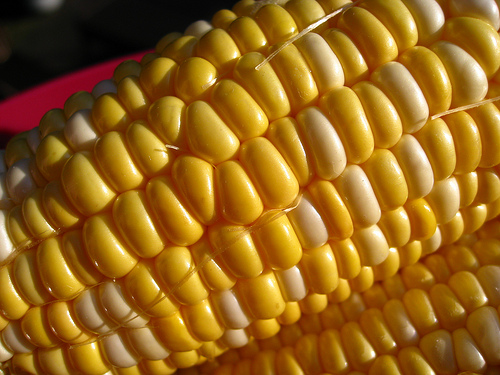corn: (182, 101, 248, 163)
